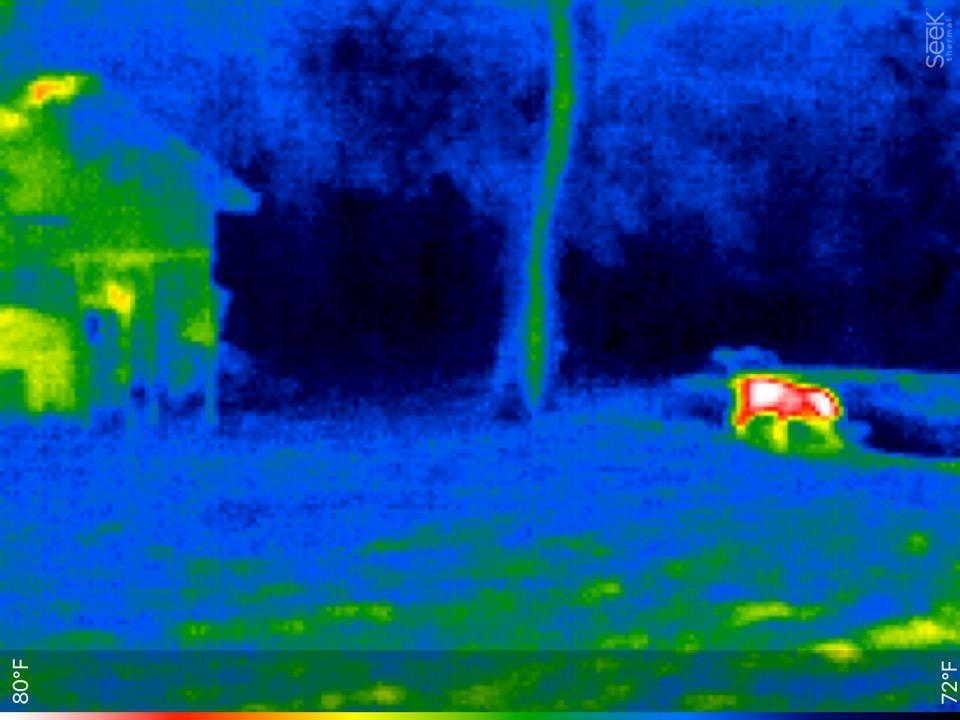dog: (718, 368, 851, 458)
